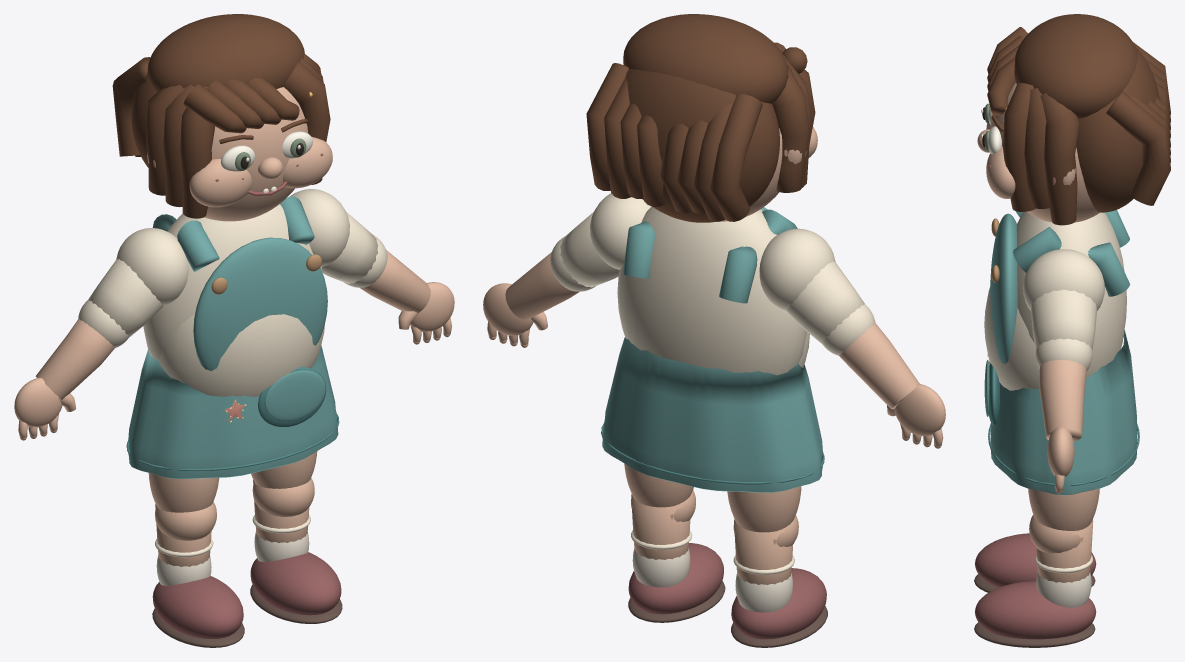
3 views of the same model, side by side, from view 1: azimuth 30°, elevation 25°; view 2: azimuth 150°, elevation 25°; view 3: azimuth 270°, elevation 25° (orthographic). The views are drawn at different scales.
Visible parts, largest first — view 1: flared canvas pinafore skirt, pinafore bib, hair crown, rounded belly under pinafore, shirt body, head, R shoe, L shoe, L sleeve shoulder, L forearm, L shirt sleeve, R sleeve shoulder (+32 smaller); view 2: flared canvas pinafore skirt, shirt body, hair crown, hair back volume, L sleeve shoulder, back hair lock -1 3, L shoe, R shoe, L forearm, L shirt sleeve, wavy side lock -1 2, R sleeve shoulder (+25 smaller); view 3: flared canvas pinafore skirt, hair crown, hair back volume, shirt body, R shoe, wavy side lock 1 2, back hair lock 1 3, R sleeve shoulder, pinafore bib, R forearm, R shirt sleeve, L shoe (+22 smaller).
Part boxes in pixels (x1,y1,x2,y2): flared canvas pinafore skirt: (128, 345, 338, 478); pinafore bib: (193, 237, 327, 371); hair crown: (147, 14, 304, 92); rounded belly under pinafore: (159, 314, 324, 396); shirt body: (143, 204, 322, 361); head: (204, 87, 308, 221); R shoe: (250, 552, 341, 615); L shoe: (152, 576, 243, 638); L sleeve shoulder: (116, 228, 188, 305); L forearm: (35, 319, 114, 399); L shirt sleeve: (88, 259, 163, 337); R sleeve shoulder: (290, 189, 349, 266); flared canvas pinafore skirt: (602, 337, 822, 492); shirt body: (617, 206, 806, 375); hair crown: (623, 14, 788, 103); hair back volume: (625, 68, 779, 222); L sleeve shoulder: (759, 228, 835, 310); back hair lock -1 3: (710, 93, 762, 221); L shoe: (731, 568, 826, 639); R shoe: (628, 543, 723, 614); L forearm: (839, 323, 919, 409); L shirt sleeve: (786, 261, 865, 344); wavy side lock -1 2: (772, 64, 809, 192); R sleeve shoulder: (590, 193, 651, 269); flared canvas pinafore skirt: (991, 330, 1136, 495); hair crown: (1014, 14, 1137, 118); hair back volume: (1076, 47, 1159, 212); shirt body: (1016, 211, 1126, 378); R shoe: (975, 581, 1096, 639); wavy side lock 1 2: (1040, 93, 1079, 225); back hair lock 1 3: (1106, 91, 1170, 205); R sleeve shoulder: (1023, 249, 1104, 310); pinafore bib: (990, 213, 1017, 363); R forearm: (1039, 359, 1086, 441); R shirt sleeve: (1031, 289, 1097, 350); L shoe: (975, 533, 1096, 587).
Bounding box in the file's own units: 1.35 × 1.71 × 0.5186.
